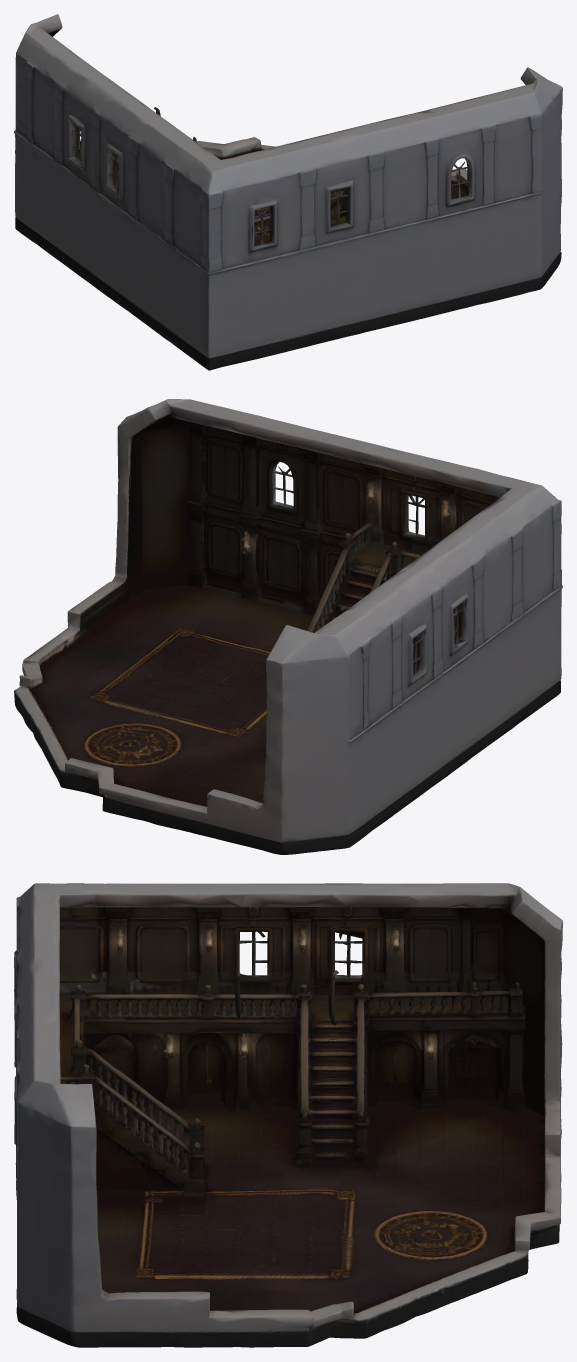
The model's file is sheepbase.glb.
3 renders of one model, top to bottom at view 1: azimuth 30°, elevation 25°; view 2: azimuth 150°, elevation 25°; view 3: azimuth 270°, elevation 25°, orthographic. The views are drawn at different scales.
Parts seen in each view (by area): view 1: tripo_node_5eec9cd6-fab6-4862-b552-97bcc05479df; view 2: tripo_node_5eec9cd6-fab6-4862-b552-97bcc05479df; view 3: tripo_node_5eec9cd6-fab6-4862-b552-97bcc05479df.
Boxes of the visible parts, x1,y1,x2,y2 form: tripo_node_5eec9cd6-fab6-4862-b552-97bcc05479df: [14, 14, 562, 370]; tripo_node_5eec9cd6-fab6-4862-b552-97bcc05479df: [14, 399, 562, 854]; tripo_node_5eec9cd6-fab6-4862-b552-97bcc05479df: [14, 883, 562, 1347].
Bounding box in the file's own units: 0.9996 × 0.5001 × 1.
Materials: 1 (1 with a texture image).
